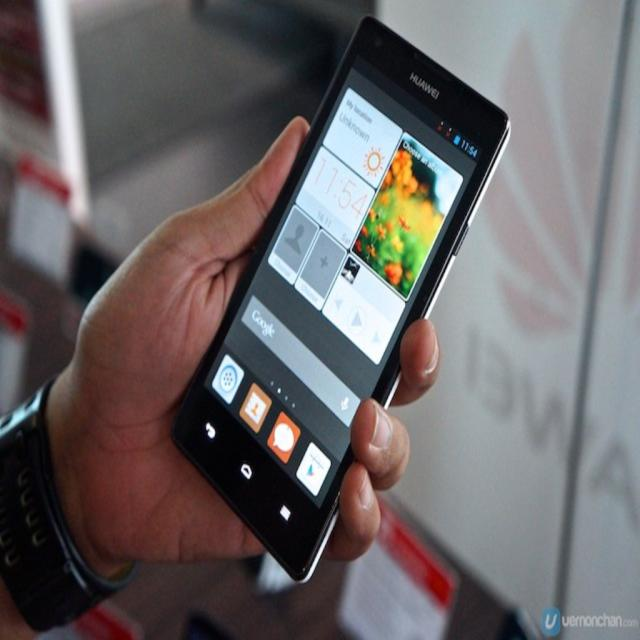Mobile-phone: (167, 6, 512, 586)
